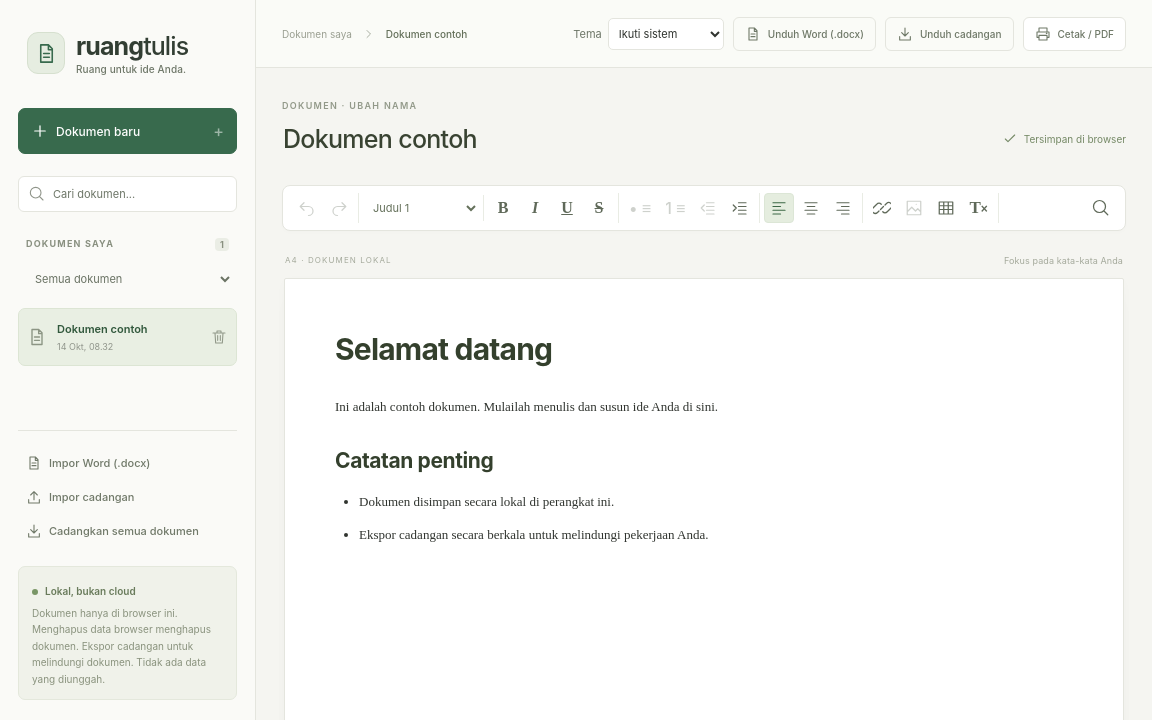
it: App display theme › retains an explicit preference across an App remount
Select "Gelap" in the dropdown named "Tema tampilan": (666, 34) [608,18,724,50]
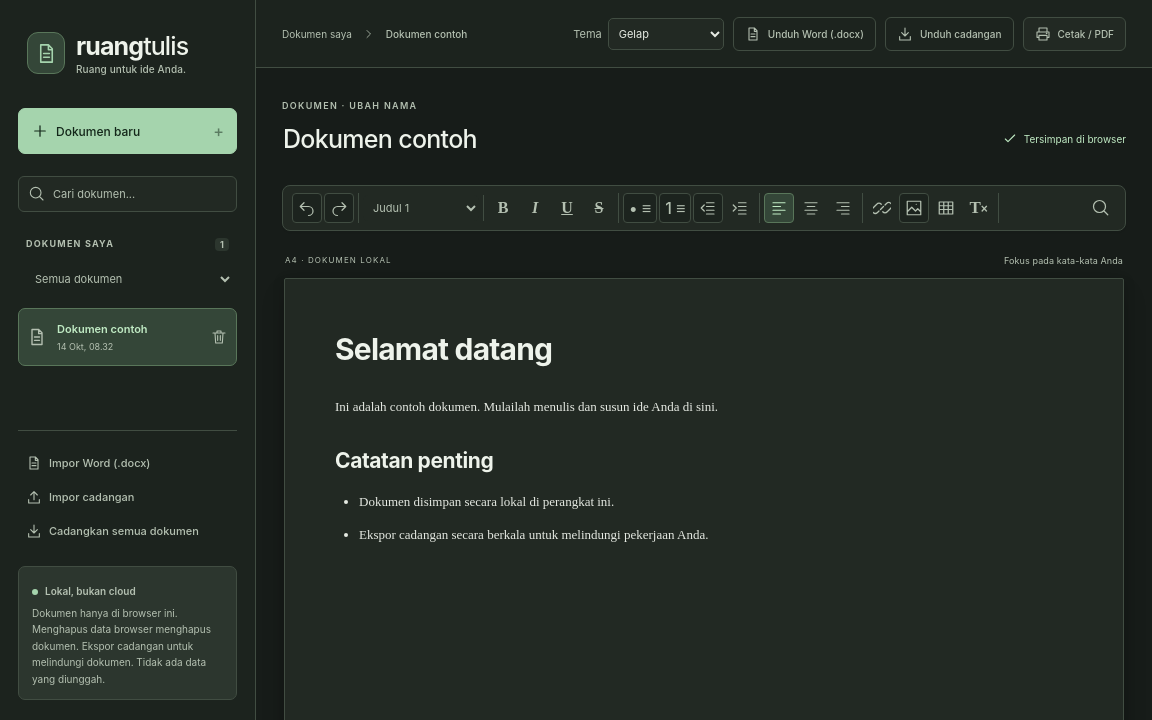
Now the dropdown named "Tema tampilan" shows "Gelap", box [608,18,724,50]
